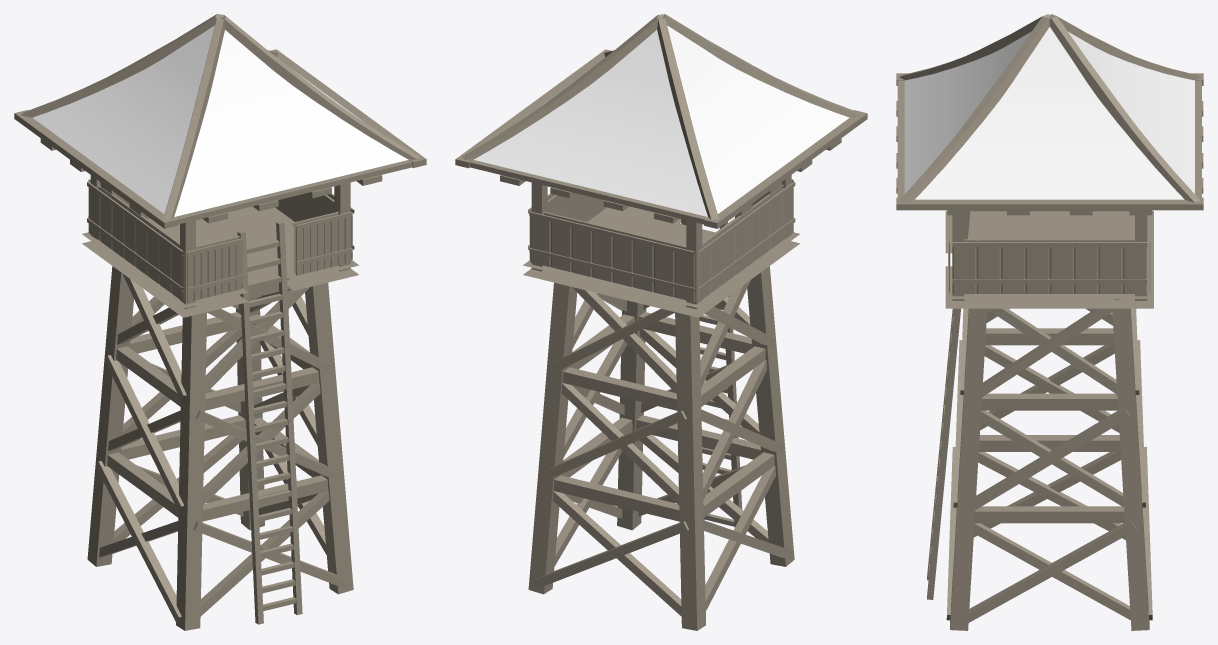
File: gullhaven_tower.glb
3 views of the same model, side by side, from view 1: azimuth 30°, elevation 25°; view 2: azimuth 150°, elevation 25°; view 3: azimuth 270°, elevation 25° (orthographic). The views are drawn at different scales.
Visible parts, largest first — view 1: village/MI_WoodTrim, village/MI_FlatTiles, village/MI_WoodTrim_Wear; view 2: village/MI_WoodTrim, village/MI_FlatTiles, village/MI_WoodTrim_Wear; view 3: village/MI_WoodTrim, village/MI_FlatTiles, village/MI_WoodTrim_Wear.
Boxes of the visible parts, <box> form: village/MI_WoodTrim: <box>14,14,426,630</box>; village/MI_FlatTiles: <box>33,25,408,216</box>; village/MI_WoodTrim_Wear: <box>88,187,352,302</box>; village/MI_WoodTrim: <box>455,14,867,630</box>; village/MI_FlatTiles: <box>473,25,849,216</box>; village/MI_WoodTrim_Wear: <box>529,187,793,302</box>; village/MI_WoodTrim: <box>896,14,1203,630</box>; village/MI_FlatTiles: <box>904,27,1194,199</box>; village/MI_WoodTrim_Wear: <box>949,210,1150,293</box>.
Size of the model in its own units: 4.61 by 9.41 by 4.58.
